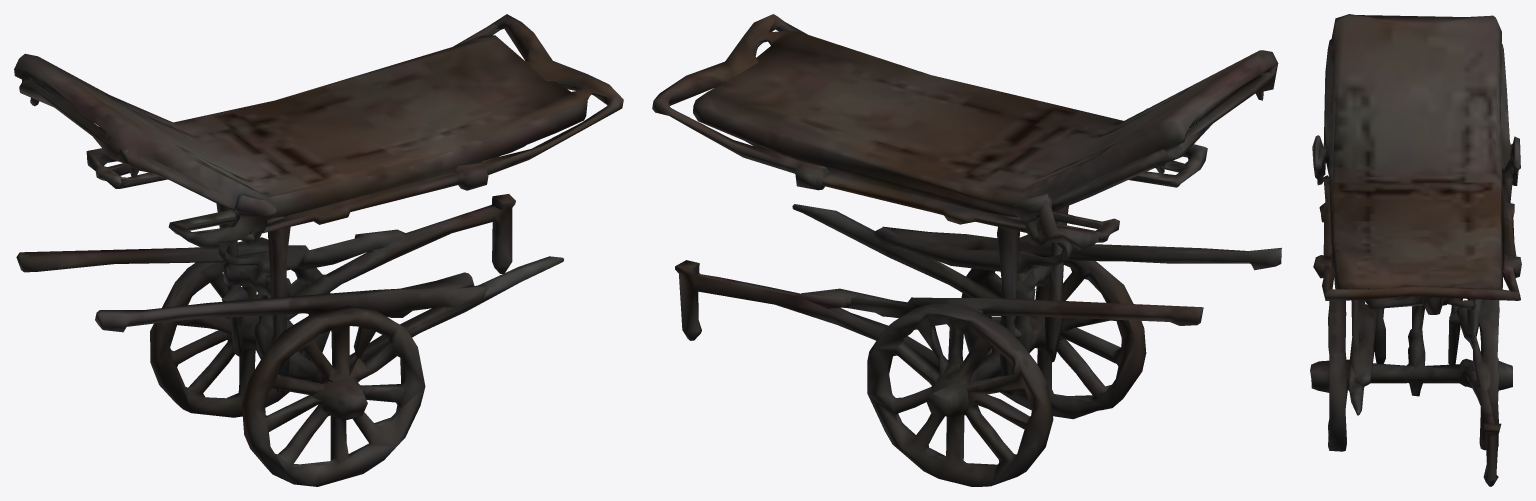
File: weathered-iron-gurney-v002.glb
3 views of the same model, side by side, from view 1: azimuth 30°, elevation 25°; view 2: azimuth 150°, elevation 25°; view 3: azimuth 270°, elevation 25° (orthographic). The views are drawn at different scales.
Visible parts, largest first — view 1: weathered-iron-gurney; view 2: weathered-iron-gurney; view 3: weathered-iron-gurney.
Boxes of the visible parts, x1,y1,x2,y2 form: weathered-iron-gurney: [14, 14, 623, 486]; weathered-iron-gurney: [652, 14, 1281, 486]; weathered-iron-gurney: [1310, 14, 1521, 486].
Bounding box in the file's own units: 1.09 × 0.8255 × 0.4654.
Materials: 1 (1 with a texture image).
